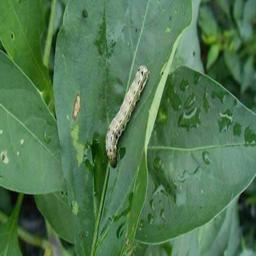Tobacco_budworm: (103, 63, 151, 169)
